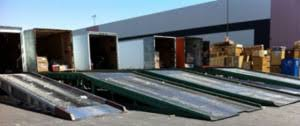Yard Ramp: (81, 71, 300, 121), (1, 72, 127, 122), (150, 69, 300, 106)
